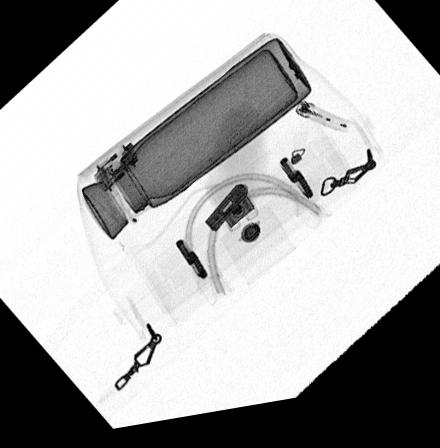Lighter: (294, 110, 350, 145)
